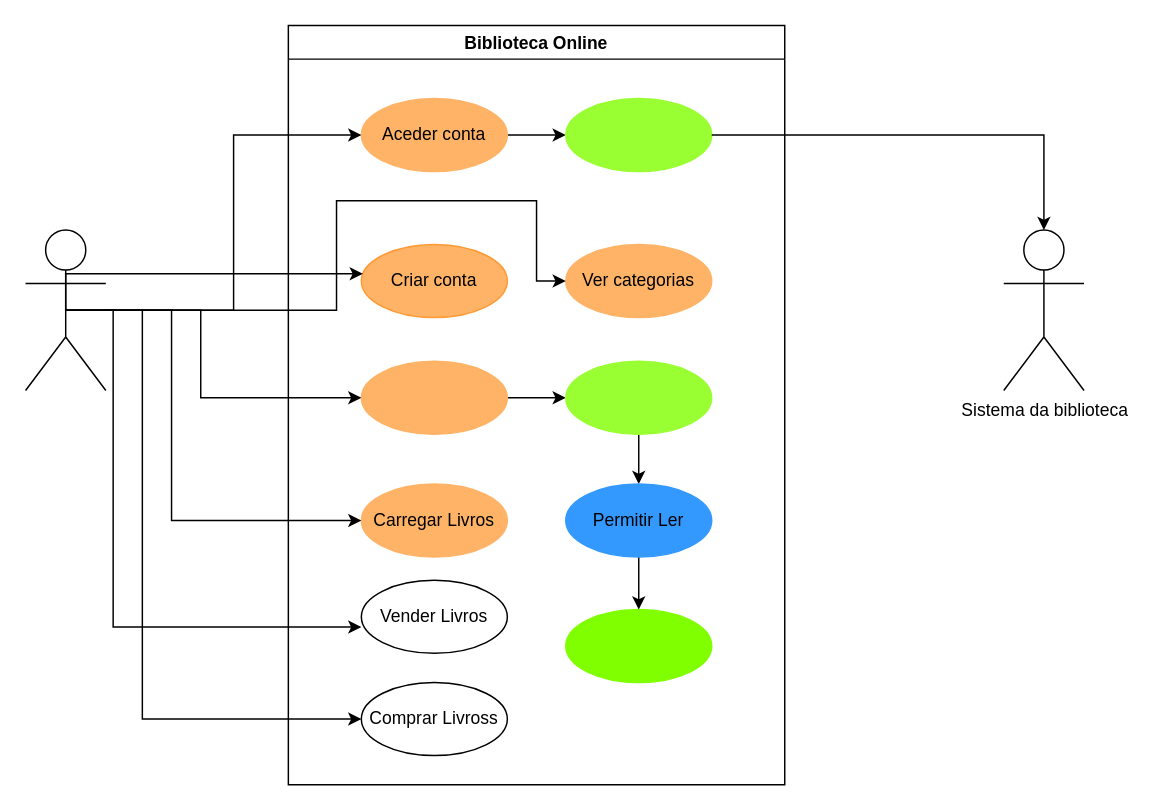
Image size: 1152x810. Some labels were removed from this diagram. The centre of each missing label's shape, as x and y in pixels:
Analisar cadastro: the point at 638,397
Ler livros: the point at 433,397
Mostrar Livros: the point at 638,645
Usuario: the point at 65,309
Validar dados: the point at 638,134
